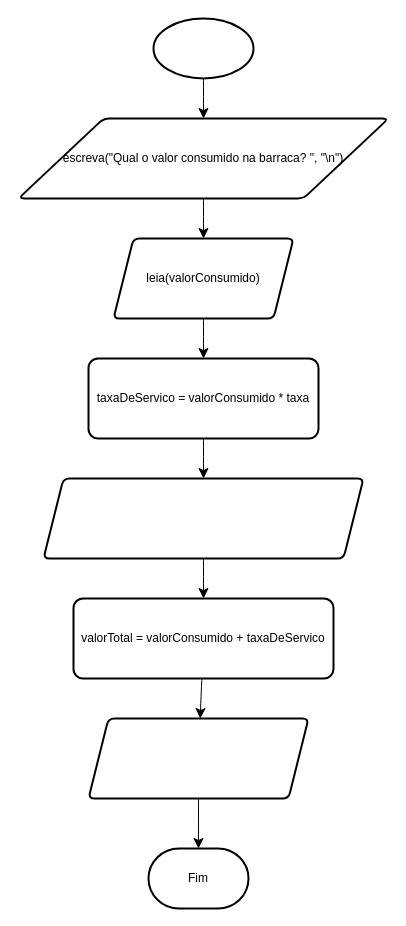
Image size: 406x926. Some labels were removed from this diagram. The centre of each missing label's shape, as x and y in pixels:
escreva("A taxa de serviço é: ", taxaDeservico, "\n"): (x=203, y=518)
Escreva("O valor total do consumo na barraca ficará: ", valorTotal): (x=198, y=758)
